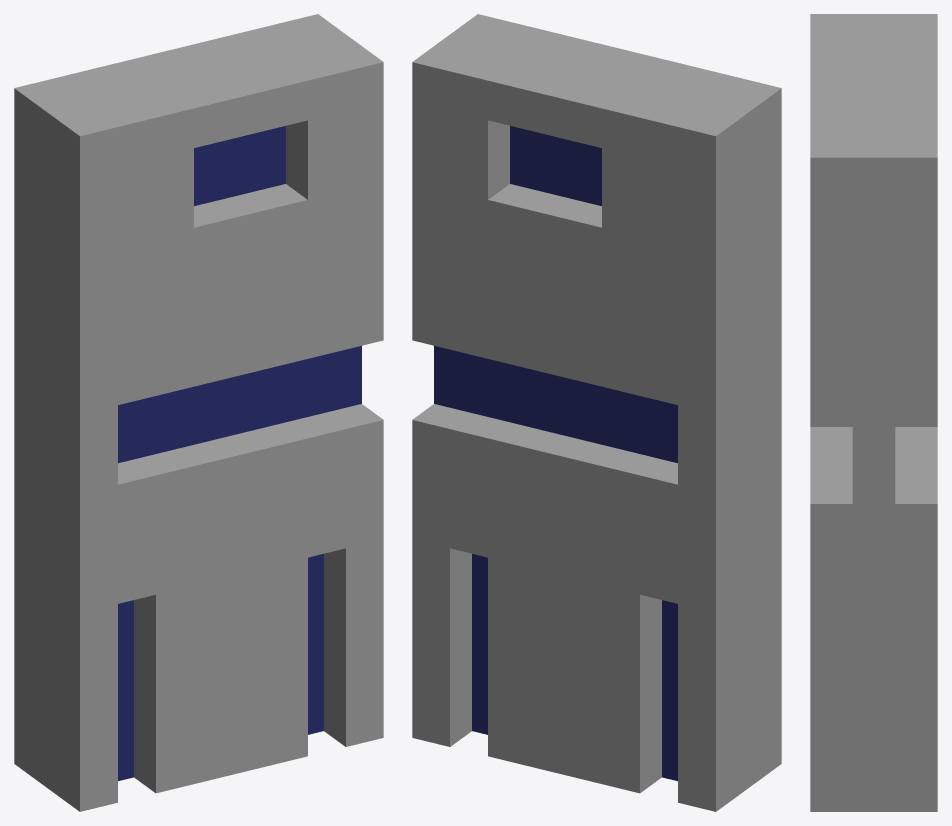
Rendered from SM_doorL_01a.fbx.
3 renders of one model, left to right at view 1: azimuth 30°, elevation 25°; view 2: azimuth 150°, elevation 25°; view 3: azimuth 270°, elevation 25°, orthographic. The views are drawn at different scales.
Visible parts, largest first — view 1: SM_doorL_01a; view 2: SM_doorL_01a; view 3: SM_doorL_01a.
Boxes of the visible parts, left/top/right/bottom form: SM_doorL_01a: left=14, top=14, right=383, bottom=811; SM_doorL_01a: left=412, top=14, right=781, bottom=811; SM_doorL_01a: left=810, top=14, right=937, bottom=811.
Bounding box in the file's own units: 8 × 17 × 3.
